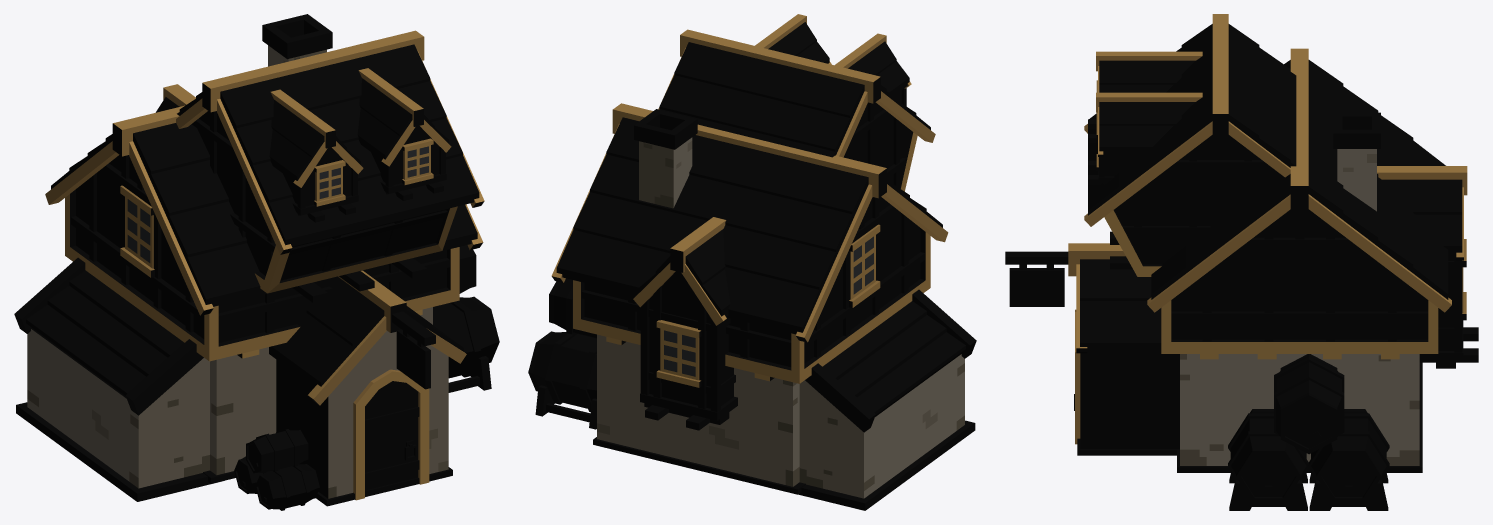
Rendered from House_Tavern.gltf.
The picture shows the model from 3 angles, left to right: view 1: azimuth 30°, elevation 25°; view 2: azimuth 150°, elevation 25°; view 3: azimuth 270°, elevation 25°; orthographic projection. The views are drawn at different scales.
Visible parts, largest first — view 1: SF_Bld_House_Tavern_01; view 2: SF_Bld_House_Tavern_01; view 3: SF_Bld_House_Tavern_01.
Boxes of the visible parts, bbox=[...] form: SF_Bld_House_Tavern_01: bbox=[14, 14, 499, 510]; SF_Bld_House_Tavern_01: bbox=[528, 14, 976, 510]; SF_Bld_House_Tavern_01: bbox=[1005, 14, 1478, 510].
Size of the model in its own units: 0.1421 by 0.1314 by 0.1547.
Materials: 1 (1 with a texture image).
